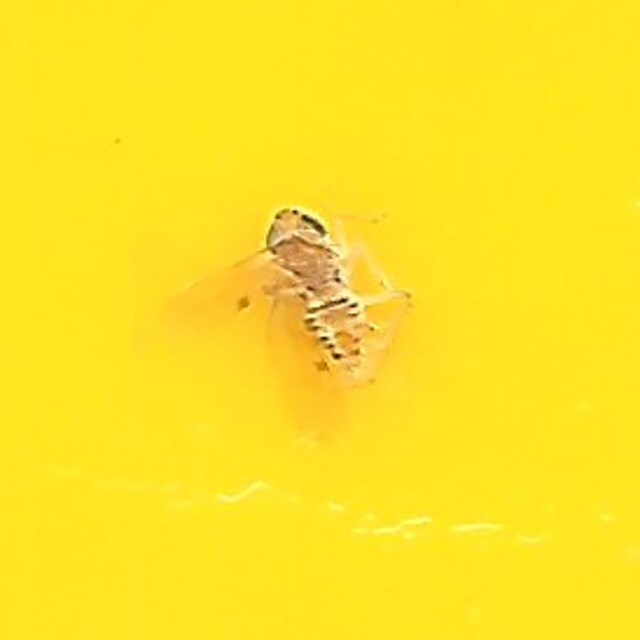Hemiptera: (234, 211, 406, 429)
